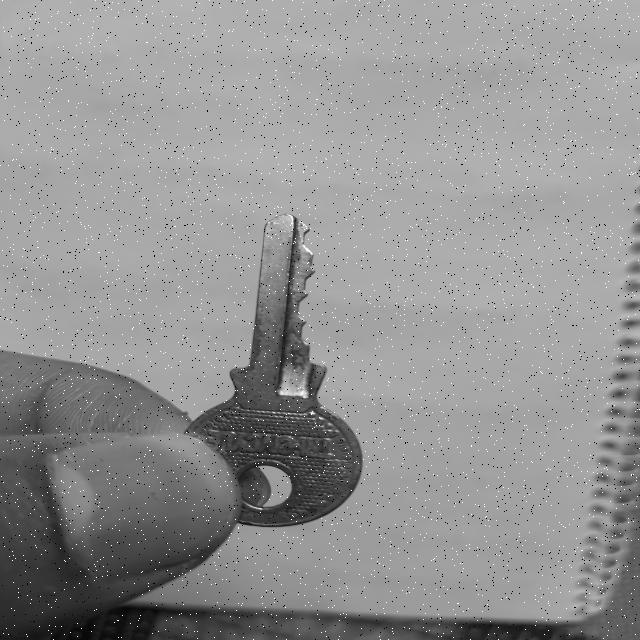key: (187, 214, 362, 527)
